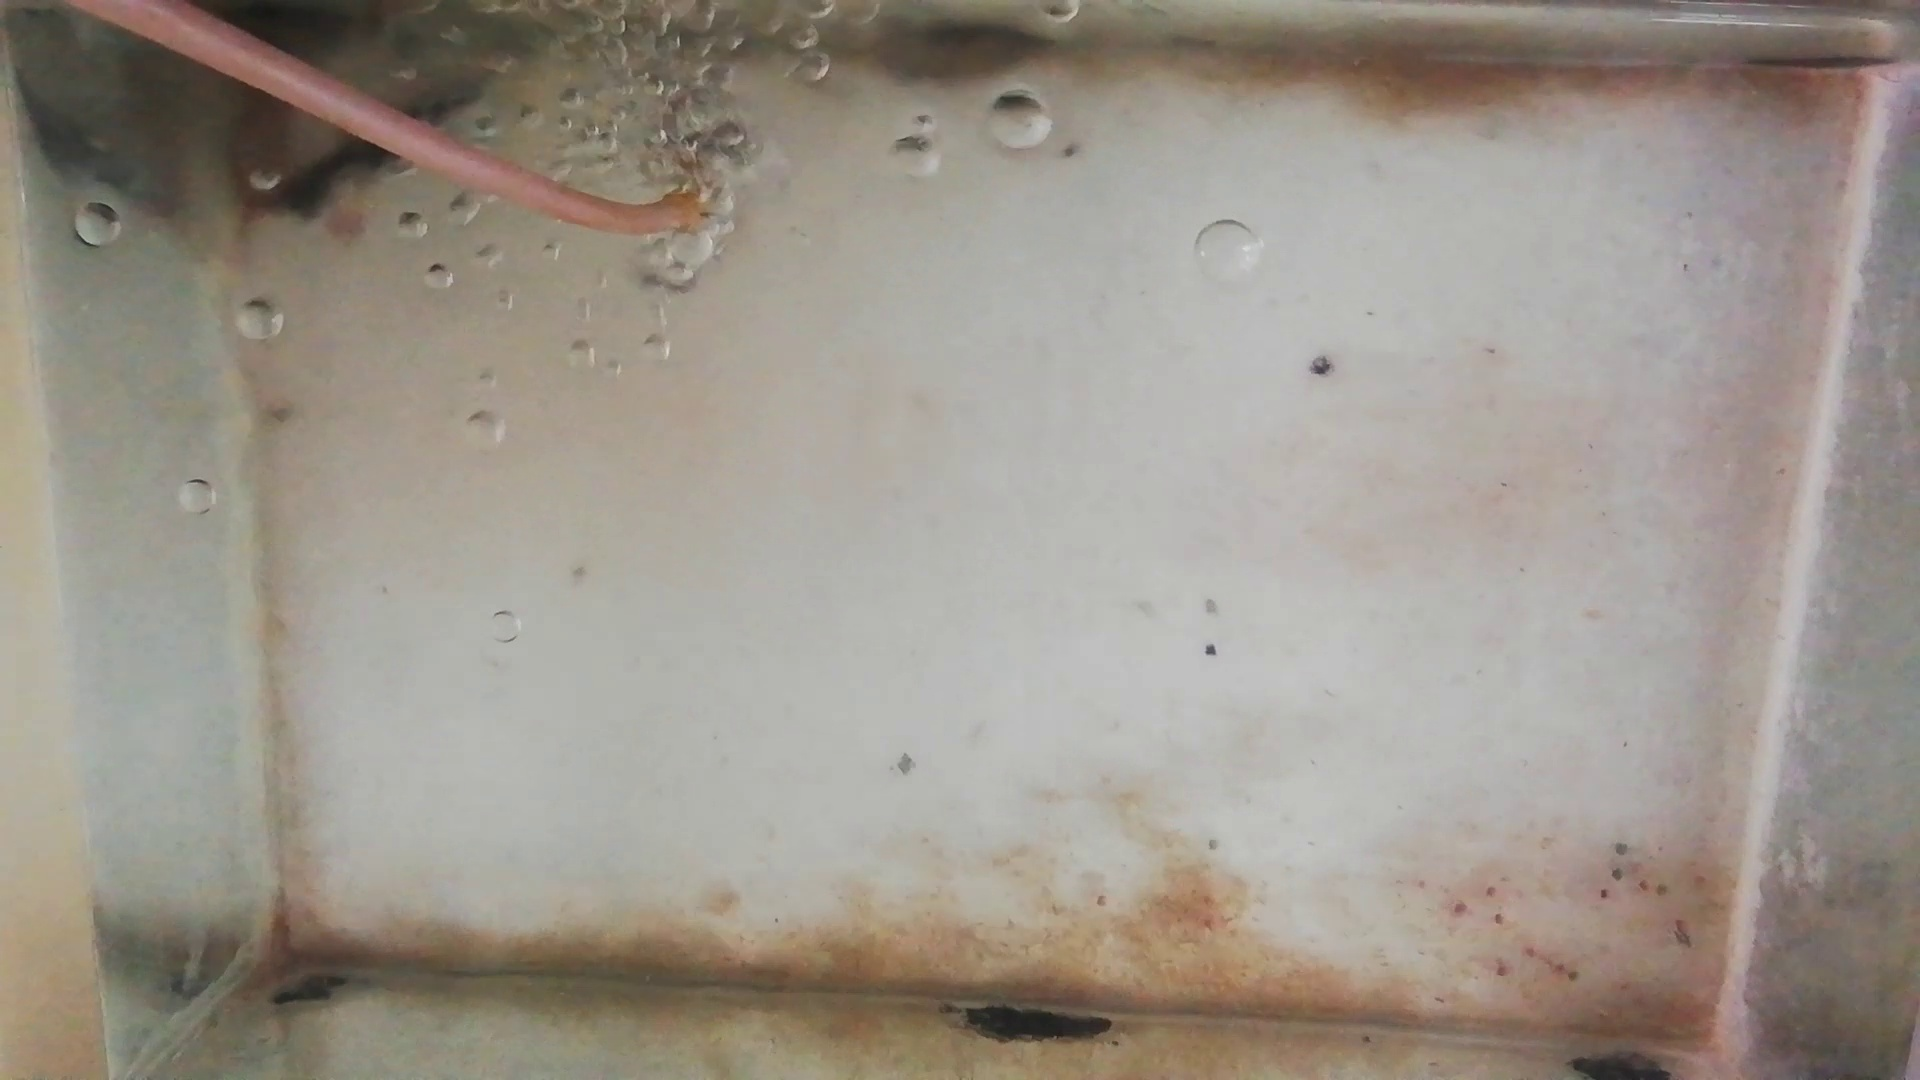fish: (280, 142, 405, 219)
